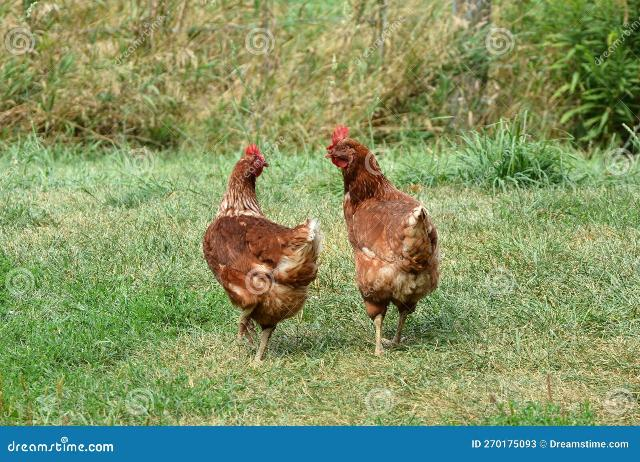Chicken: (326, 125, 441, 358), (203, 142, 322, 363)
